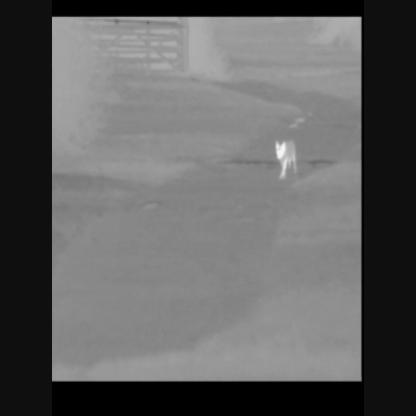rehkitze: (274, 138, 298, 179)
